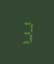three: (19, 20, 33, 43)
